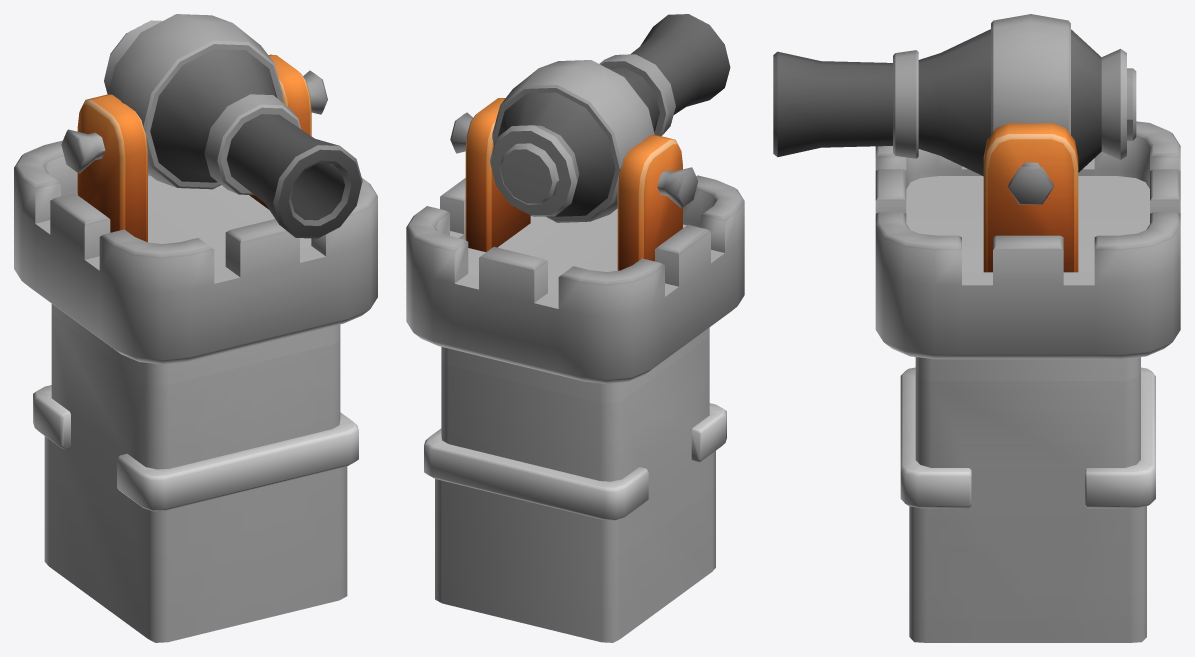
File: Canon Tower 1.fbx
3 renders of one model, left to right at view 1: azimuth 30°, elevation 25°; view 2: azimuth 150°, elevation 25°; view 3: azimuth 270°, elevation 25°, orthographic. The views are drawn at different scales.
Parts seen in each view (by area): view 1: Tower_Lv1, Canon_Lv1, rotateCanon; view 2: Tower_Lv1, Canon_Lv1, rotateCanon; view 3: Tower_Lv1, Canon_Lv1, rotateCanon.
Part boxes in pixels (left/top/right/bottom): Tower_Lv1: left=14, top=140, right=377, bottom=642; Canon_Lv1: left=104, top=14, right=362, bottom=238; rotateCanon: left=61, top=54, right=327, bottom=242; Tower_Lv1: left=406, top=175, right=744, bottom=642; Canon_Lv1: left=490, top=14, right=730, bottom=222; rotateCanon: left=450, top=98, right=698, bottom=270; Tower_Lv1: left=875, top=121, right=1180, bottom=642; Canon_Lv1: left=773, top=14, right=1136, bottom=176; rotateCanon: left=983, top=123, right=1078, bottom=272.
Bounding box in the file's own units: 0.6684 × 1.38 × 0.893.
Materials: 1 (1 with a texture image).
